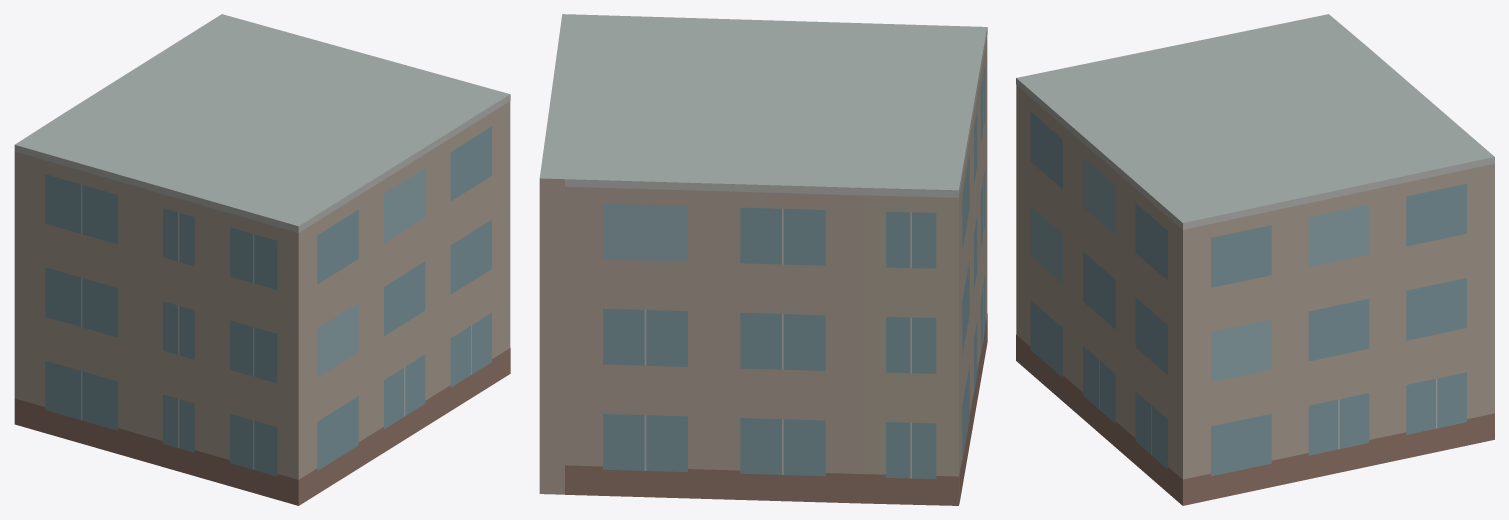
File: survey-upis-32704013.glb
3 views of the same model, side by side, from view 1: azimuth 30°, elevation 25°; view 2: azimuth 150°, elevation 25°; view 3: azimuth 270°, elevation 25° (orthographic). The views are drawn at different scales.
Parts seen in each view (by area): view 1: survey-upis-32704013.tmp; view 2: survey-upis-32704013.tmp; view 3: survey-upis-32704013.tmp.
Boxes of the visible parts, x1=… form: survey-upis-32704013.tmp: x1=14, y1=14, x2=510, y2=505; survey-upis-32704013.tmp: x1=539, y1=14, x2=987, y2=505; survey-upis-32704013.tmp: x1=1016, y1=14, x2=1494, y2=505.
Size of the model in its own units: 16.18 by 10.2 by 15.66.
